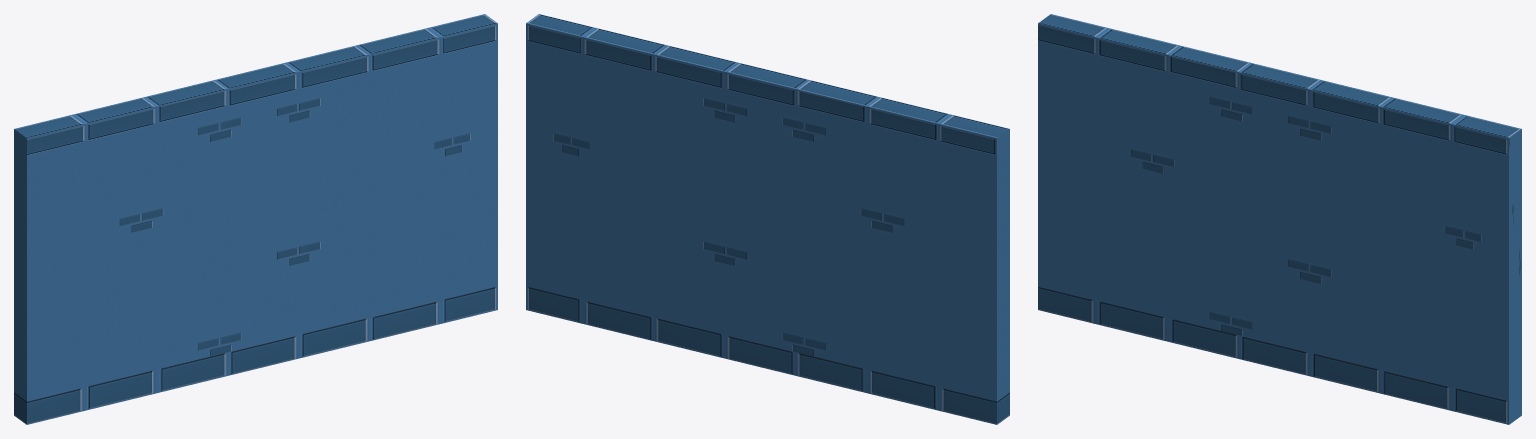
Rendered from Stena_small.fbx.
The picture shows the model from 3 angles, left to right: view 1: azimuth 30°, elevation 25°; view 2: azimuth 150°, elevation 25°; view 3: azimuth 330°, elevation 25°; orthographic projection.
Visible parts, largest first — view 1: Stena_Small.001; view 2: Stena_Small.001; view 3: Stena_Small.001.
Boxes of the visible parts, bbox=[...] form: Stena_Small.001: bbox=[14, 14, 497, 424]; Stena_Small.001: bbox=[526, 14, 1009, 424]; Stena_Small.001: bbox=[1038, 14, 1521, 424].
Size of the model in its own units: 2049 by 1192 by 96.3.
